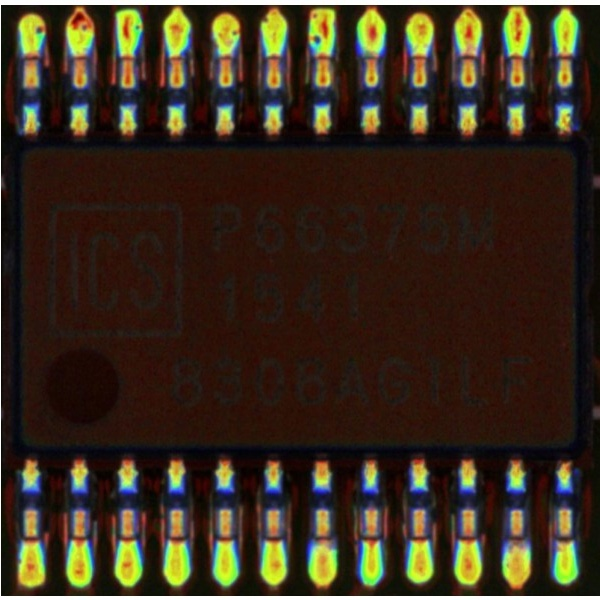Bad_podu: (264, 528, 279, 558), (462, 39, 474, 74), (461, 529, 474, 559), (557, 529, 569, 560), (168, 528, 181, 556), (71, 528, 84, 556), (365, 528, 376, 560), (559, 43, 569, 75)
